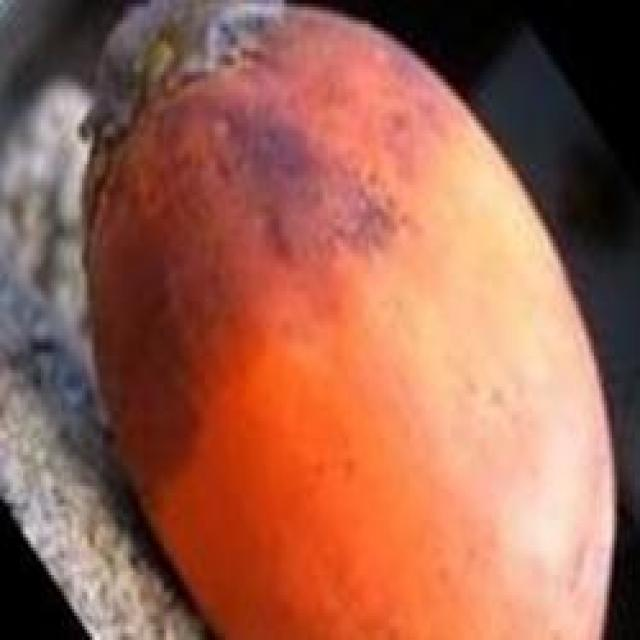good: (77, 0, 622, 637)
